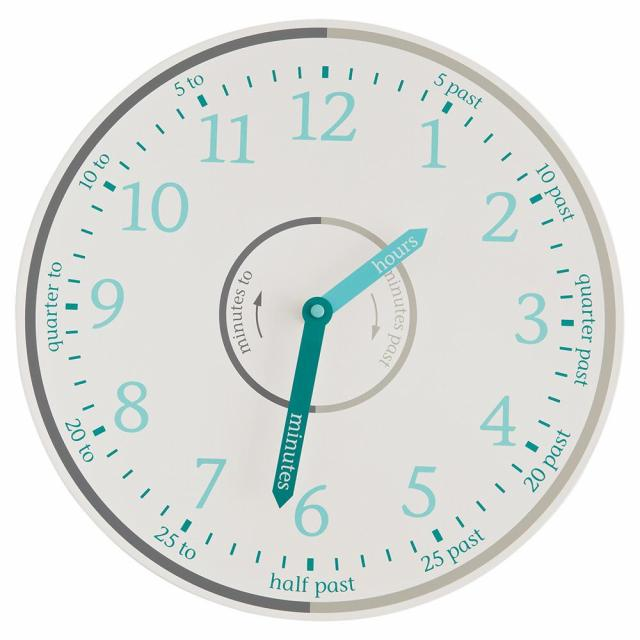clock: (28, 8, 616, 640)
